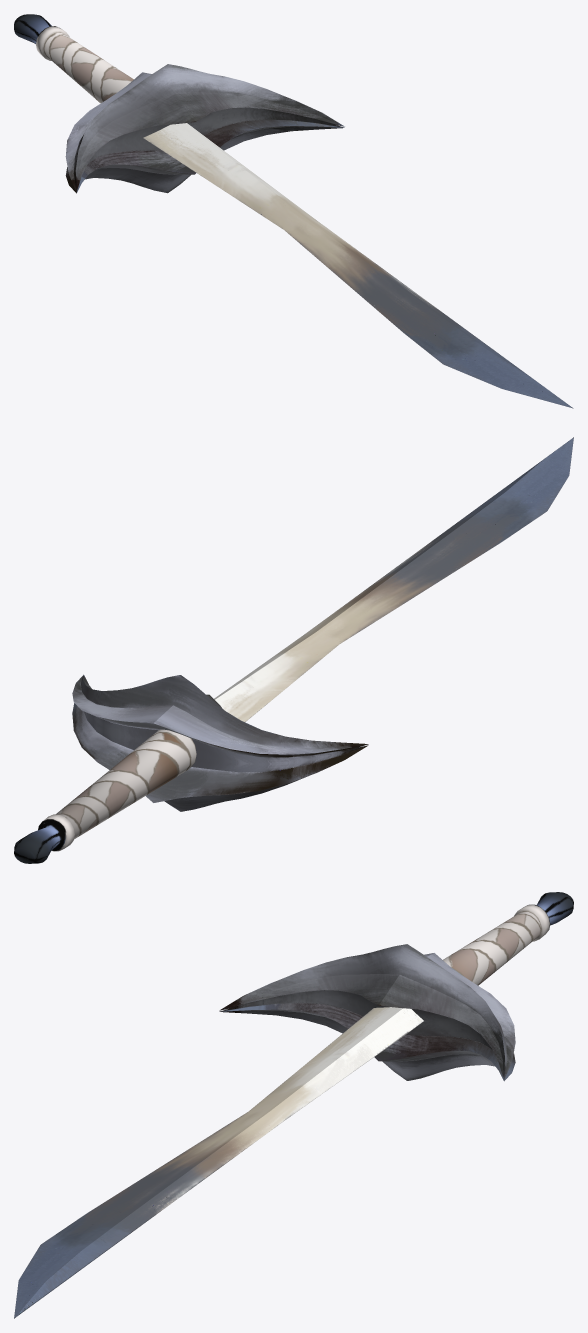
Rendered from Sword.fbx.
3 renders of one model, top to bottom at view 1: azimuth 30°, elevation 25°; view 2: azimuth 150°, elevation 25°; view 3: azimuth 330°, elevation 25°, orthographic. The views are drawn at different scales.
Parts seen in each view (by area): view 1: Guard.001; view 2: Guard.001; view 3: Guard.001.
Part boxes in pixels (x1,y1,x2,y2): Guard.001: (14,14,573,408); Guard.001: (14,437,573,863); Guard.001: (14,892,573,1318).
Size of the model in its own units: 121 by 55.66 by 417.
